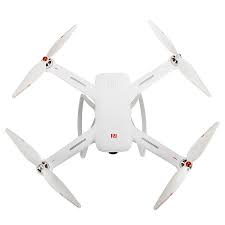Drone: (9, 12, 221, 224)
